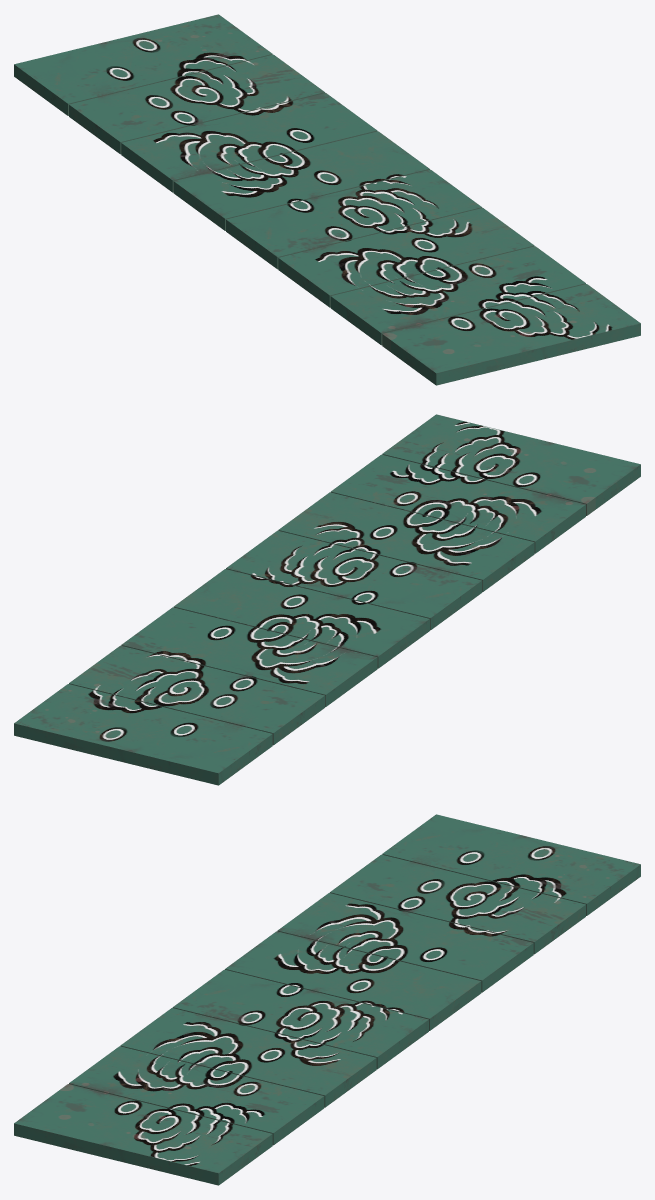
Rendered from SM_Ceiling01c.fbx.
3 views of the same model, one above another, from view 1: azimuth 30°, elevation 25°; view 2: azimuth 150°, elevation 25°; view 3: azimuth 330°, elevation 25° (orthographic).
Visible parts, largest first — view 1: SM_Ceiling01c; view 2: SM_Ceiling01c; view 3: SM_Ceiling01c.
Part boxes in pixels (x1,y1,x2,y2): SM_Ceiling01c: (14,14,640,385); SM_Ceiling01c: (14,414,640,785); SM_Ceiling01c: (14,814,640,1185).
Bounding box in the file's own units: 70 × 250 × 4.
Materials: 1 (1 with a texture image).
